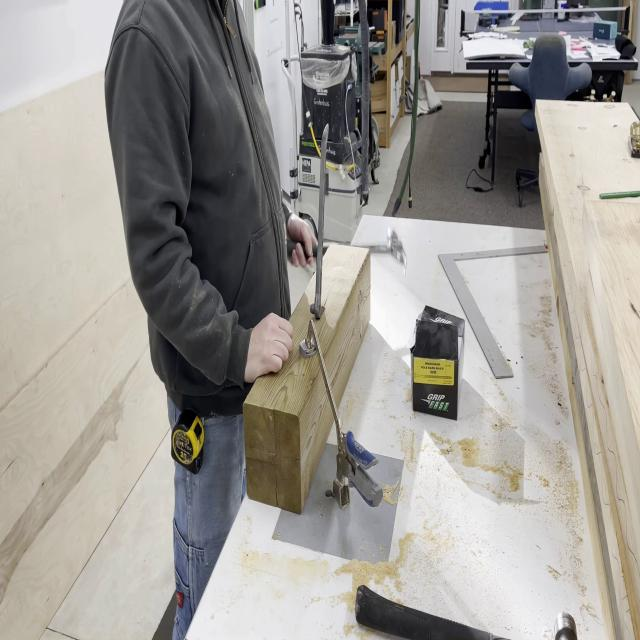hammer: (286, 228, 408, 279)
